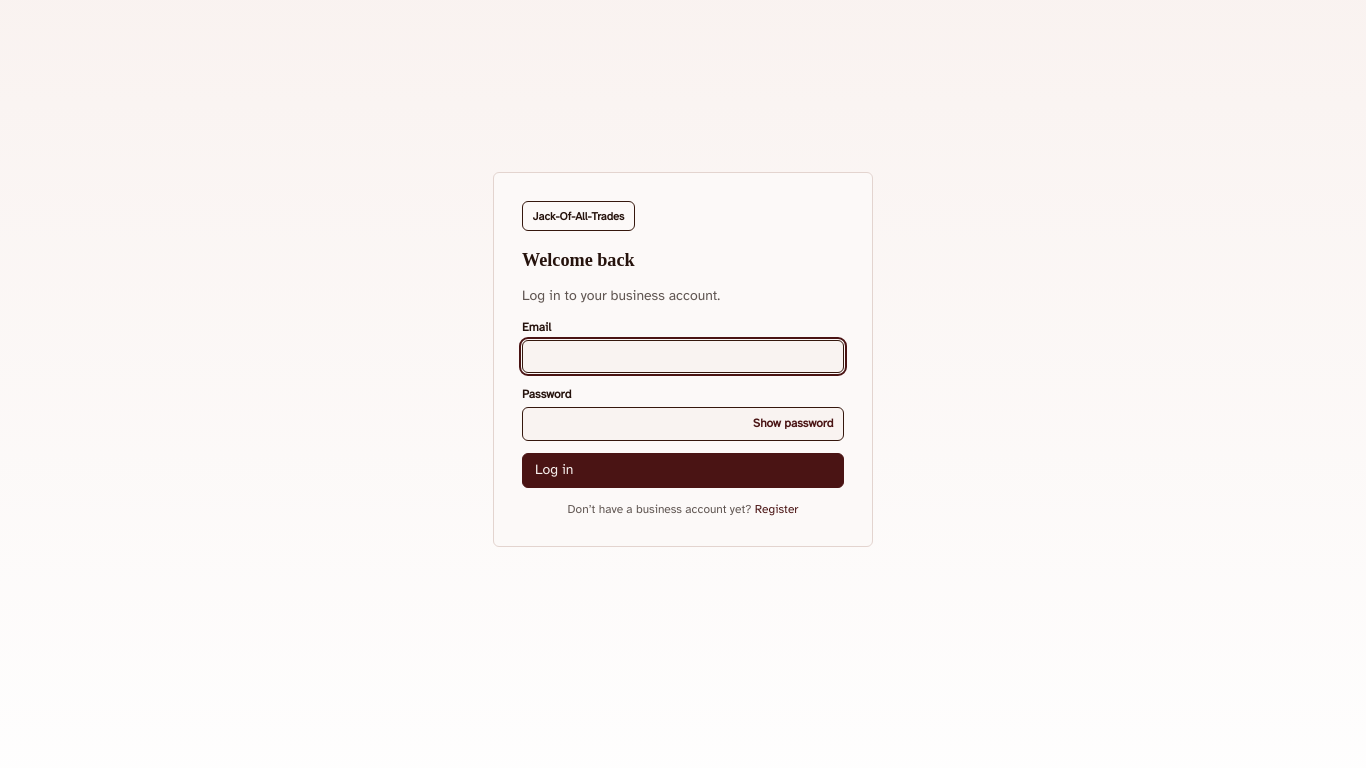
Test case: authentication pages › checks the login fields before sending, and links each error to its field
The width and height of the screenshot is (1366, 768).
In the field labelled "Email": (683, 357) [522,340,844,373], type "not-an-email"
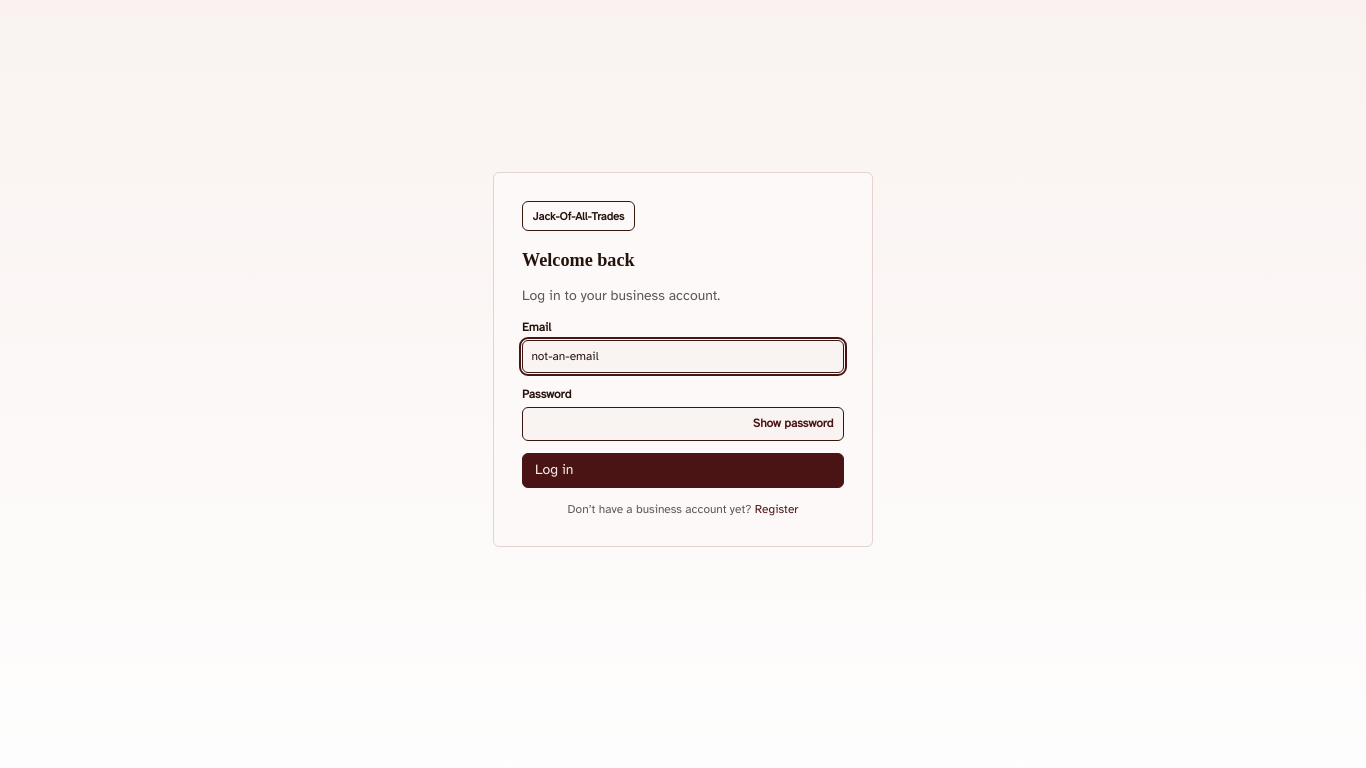
Click the button "Log in": (554, 470) [522,453,844,488]
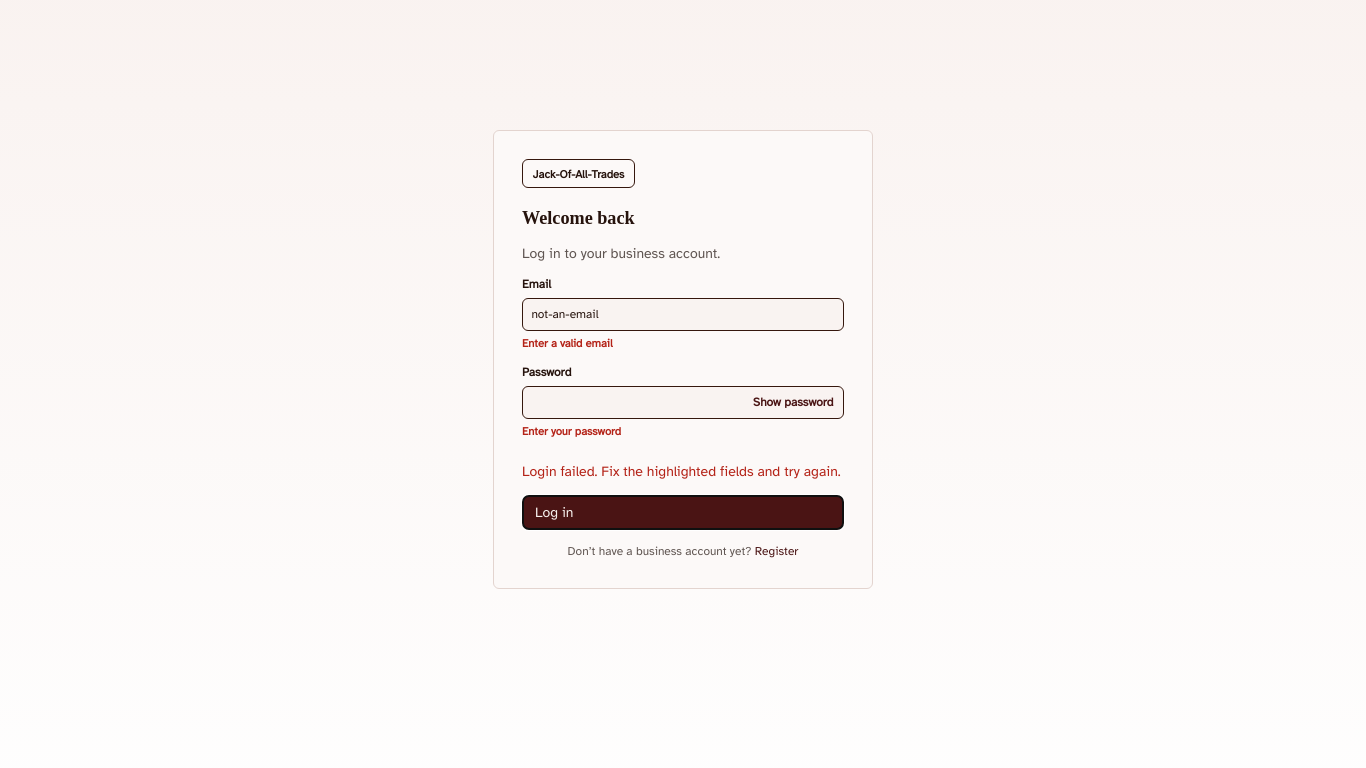
Expected: the text "Login failed. Fix the highlighted fields and try again." is shown, [522,462,844,483]
